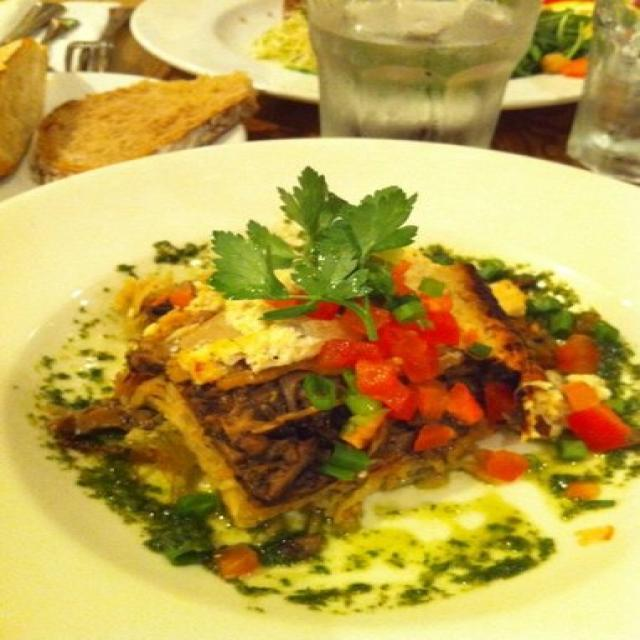Lasagna: (75, 273, 583, 544)
